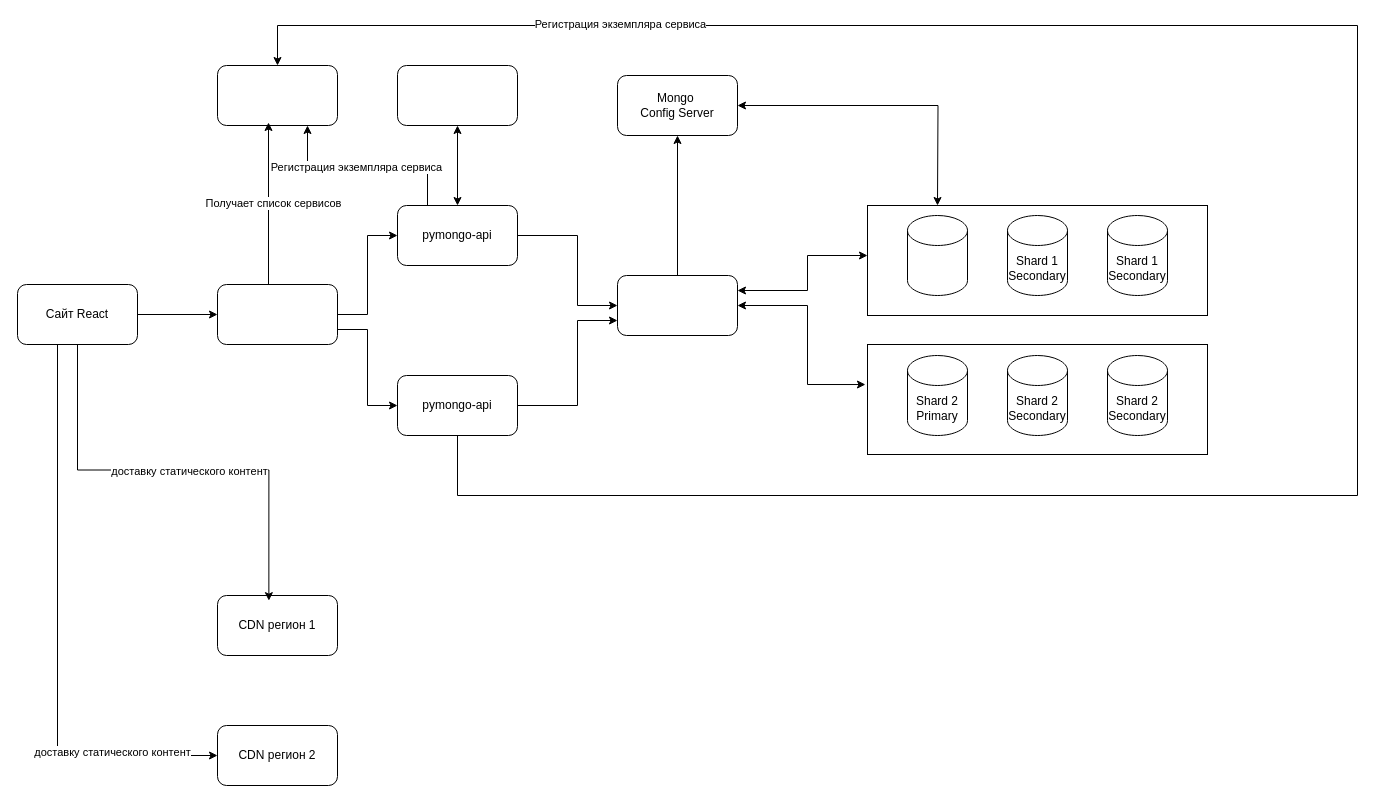
This 1383x803 diagram has some shape labels left out. Here are the shapes that lost their labels. From the top down, the box of each, then its label:
(216, 64, 338, 126): Consul
(396, 64, 518, 126): Redis
(906, 214, 968, 296): Shard 1 Primary
(216, 284, 338, 344): Api Gateway
(616, 274, 738, 336): Mongo router
